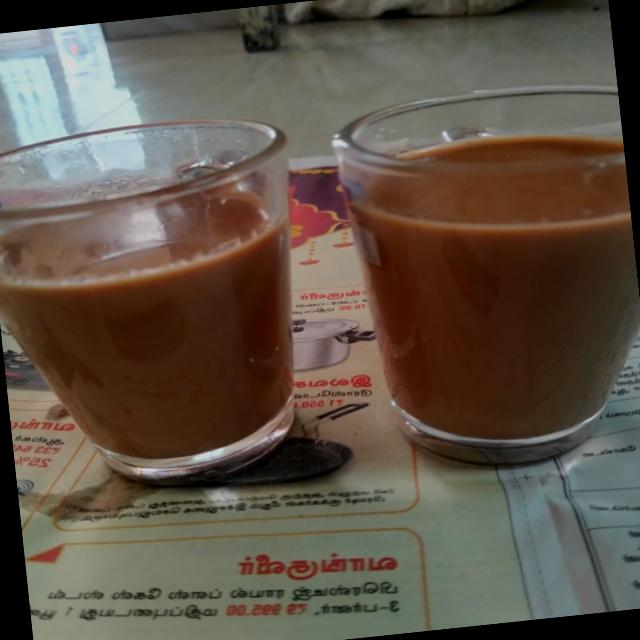glass-VX4N: (0, 67, 640, 510), (326, 67, 640, 481), (0, 104, 318, 499)
